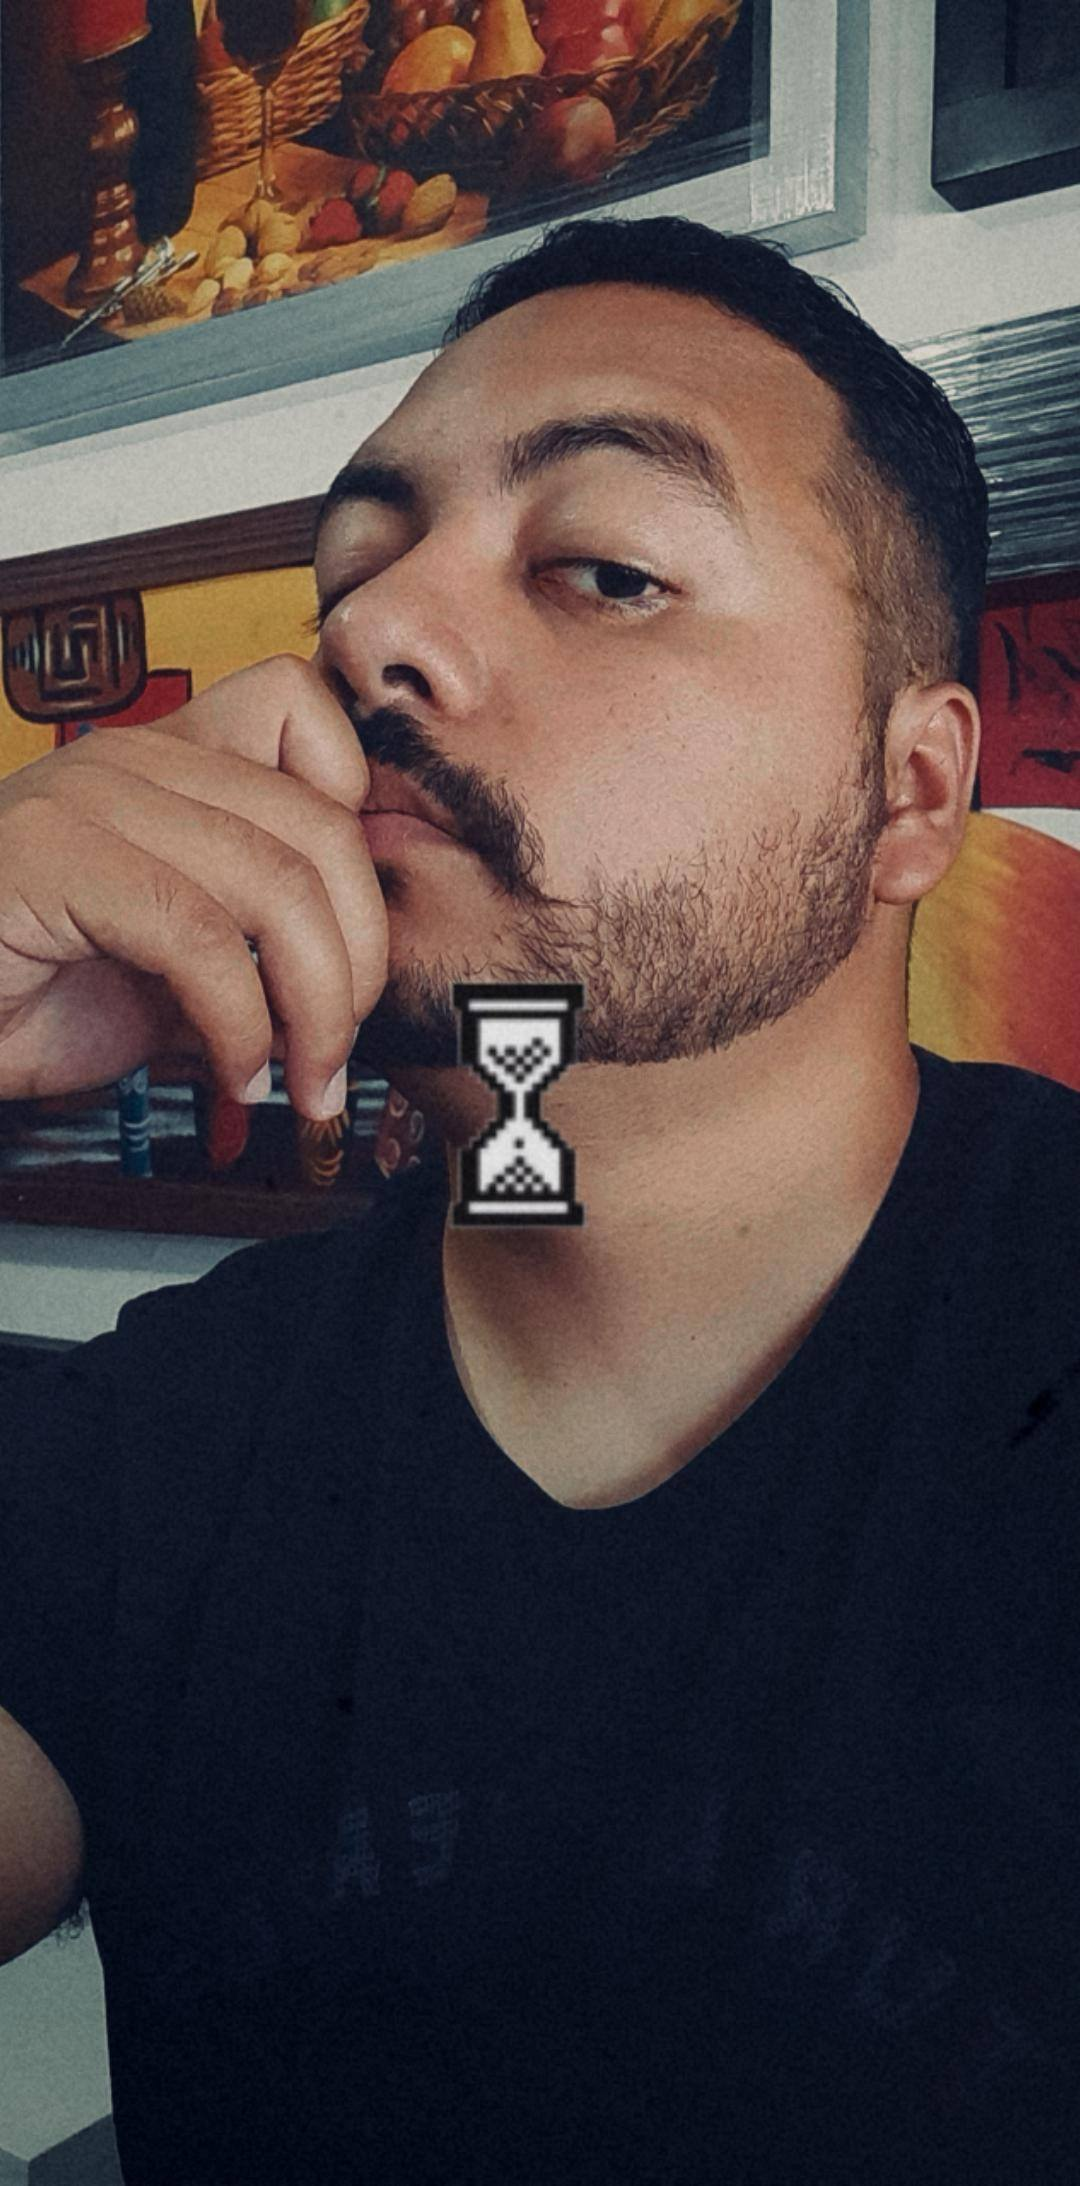Yoshi: (93, 146, 1031, 1458)
